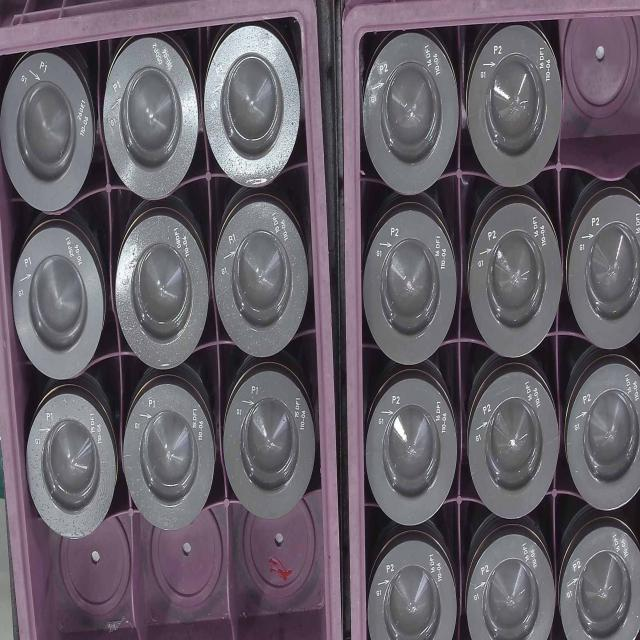P1: (213, 195, 310, 358), (102, 41, 202, 199), (201, 29, 299, 189), (18, 392, 120, 542), (115, 212, 212, 369), (0, 54, 96, 212), (11, 222, 105, 381), (125, 379, 218, 535), (224, 364, 316, 518)
P2: (360, 36, 462, 193), (364, 205, 460, 366), (465, 201, 560, 360), (467, 32, 561, 188), (466, 371, 558, 519), (368, 372, 457, 524), (567, 186, 640, 352), (564, 370, 640, 511), (464, 537, 556, 639), (370, 534, 458, 640), (560, 523, 639, 640)
